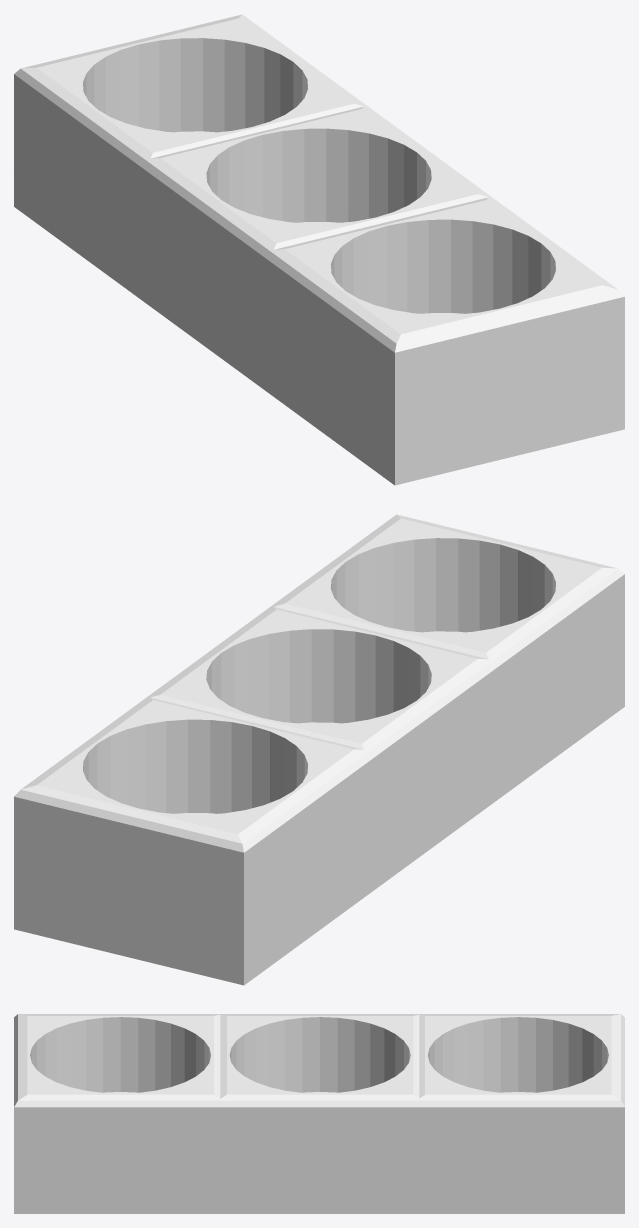
File: oultlet3.fbx
The picture shows the model from 3 angles, top to bottom: view 1: azimuth 30°, elevation 25°; view 2: azimuth 150°, elevation 25°; view 3: azimuth 270°, elevation 25°; orthographic projection. The views are drawn at different scales.
Parts seen in each view (by area): view 1: Cube.001; view 2: Cube.001; view 3: Cube.001.
Part boxes in pixels (x1,y1,x2,y2): Cube.001: (14,14,624,485); Cube.001: (14,514,624,985); Cube.001: (14,1014,624,1213).
Size of the model in its own units: 234 by 137 by 670.
